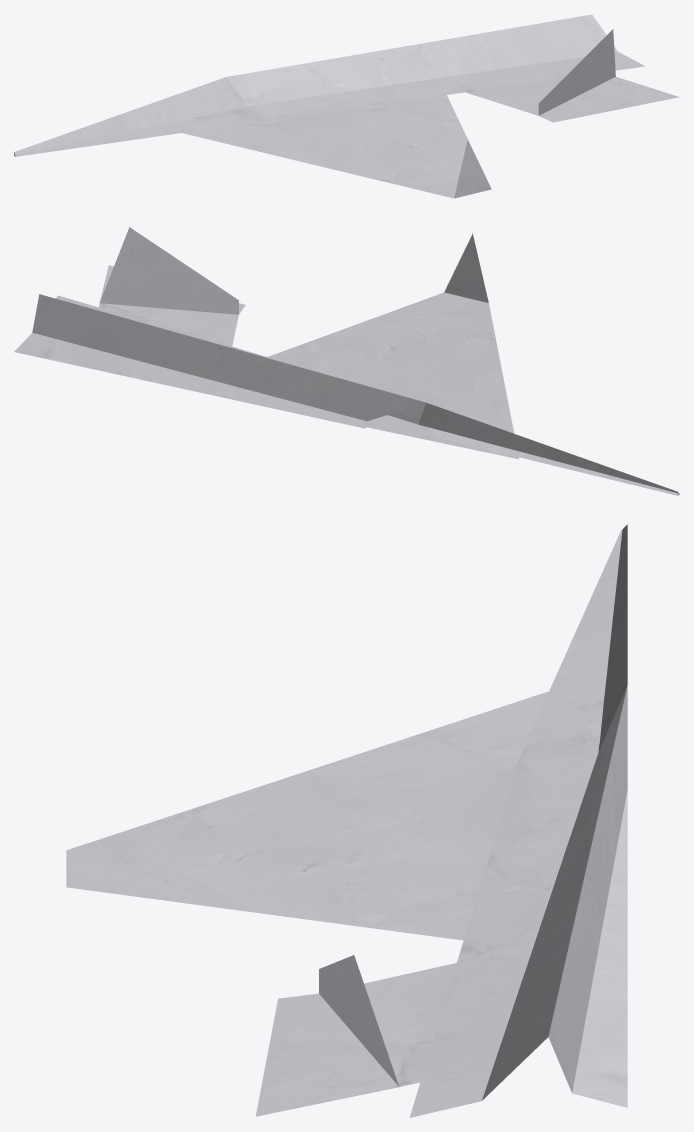
The model's file is JetMeshImport.glb.
3 views of the same model, one above another, from view 1: azimuth 30°, elevation 25°; view 2: azimuth 150°, elevation 25°; view 3: azimuth 270°, elevation 25° (orthographic). The views are drawn at different scales.
Parts seen in each view (by area): view 1: Plane.003; view 2: Plane.003; view 3: Plane.003.
Part boxes in pixels (left/top/right/bottom): Plane.003: left=14, top=14, right=679, bottom=198; Plane.003: left=14, top=227, right=679, bottom=495; Plane.003: left=66, top=524, right=627, bottom=1117.
Size of the model in its own units: 1.75 by 0.1804 by 0.7353.
Materials: 1 (1 with a texture image).
